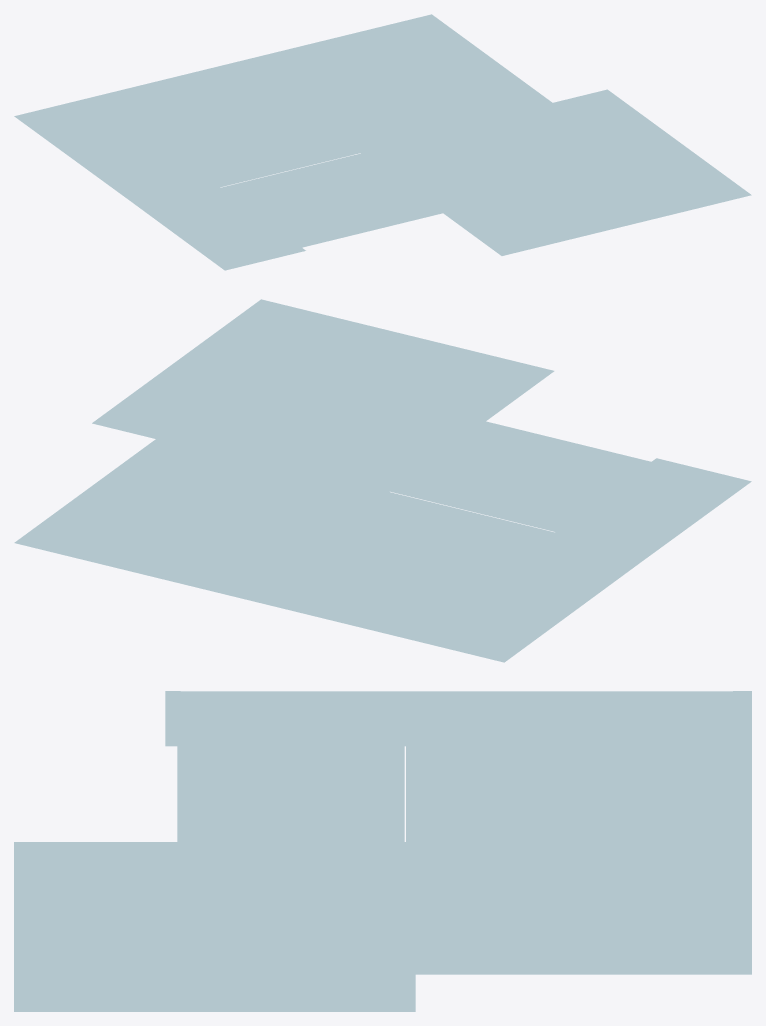
File: floorTest.fbx
The picture shows the model from 3 angles, top to bottom: view 1: azimuth 30°, elevation 25°; view 2: azimuth 150°, elevation 25°; view 3: azimuth 270°, elevation 25°; orthographic projection. The views are drawn at different scales.
Parts seen in each view (by area): view 1: Plane; view 2: Plane; view 3: Plane.
Boxes of the visible parts, x1,y1,x2,y2 form: Plane: (14,14,751,270); Plane: (14,299,751,662); Plane: (14,691,751,1011).
Bounding box in the file's own units: 3136 × 0.000497 × 3050.
